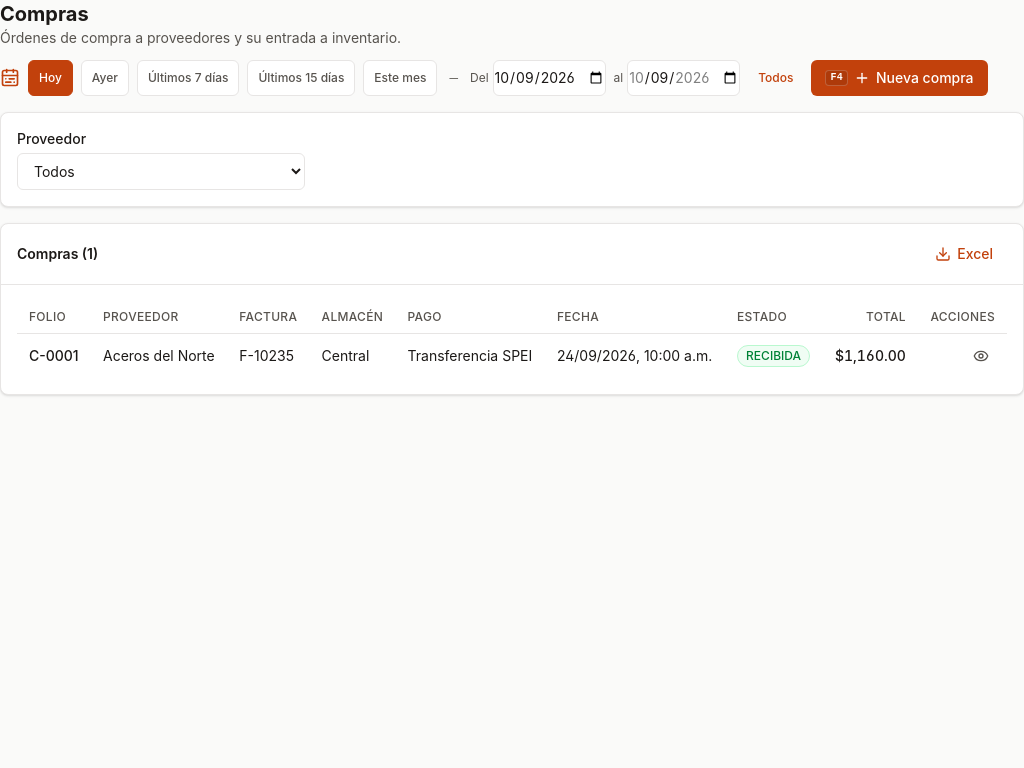
it: ComprasPage (smoke) › ver detalle abre el diálogo con partidas y total
Step 1. Click the button named "Ver detalle de C-0001" → {"x": 981, "y": 356}, box [967,342,995,370]
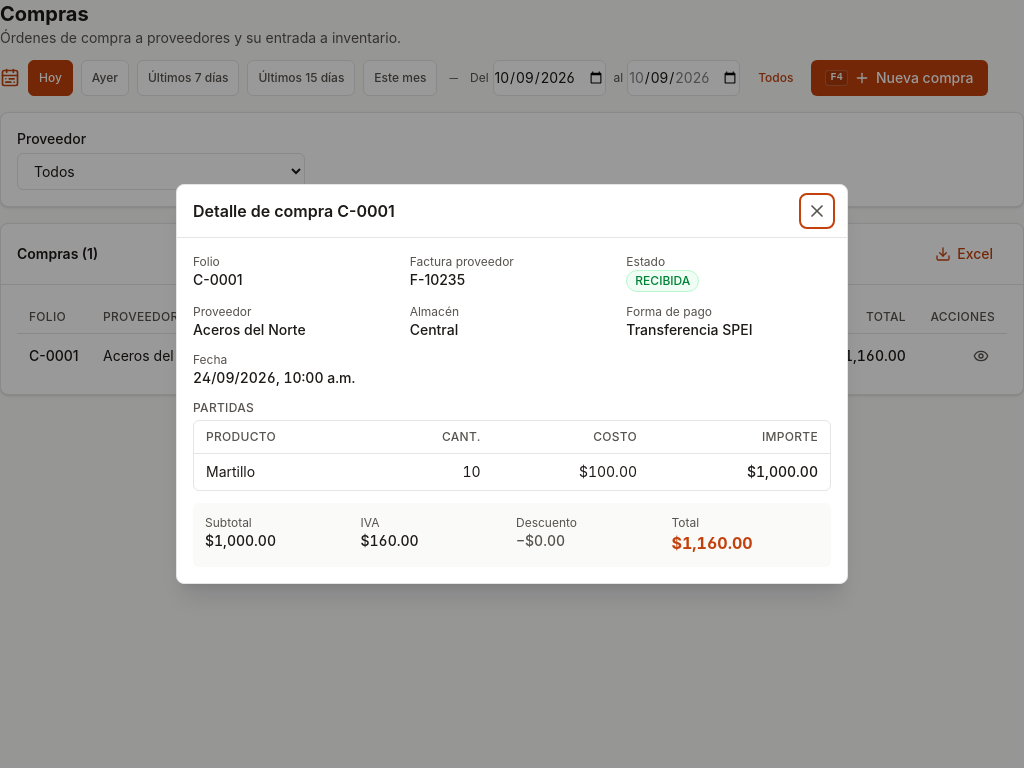
Expected: the heading "Detalle de compra C-0001" is shown, [193,199,395,223]
Expected: the text "Martillo" is shown, [194,454,373,490]
